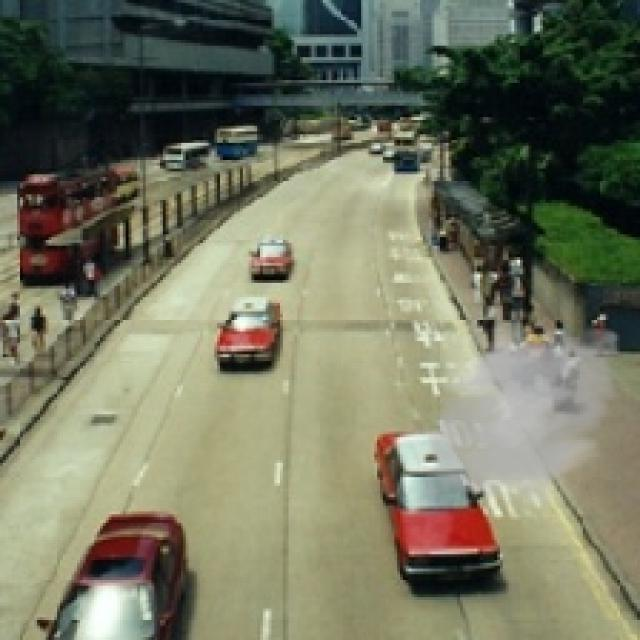smoke: (414, 311, 629, 523)
